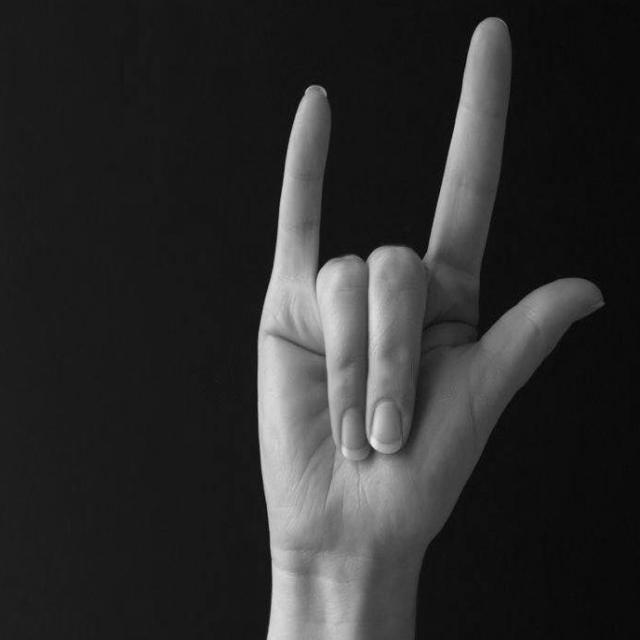i love you: (251, 7, 610, 590)
